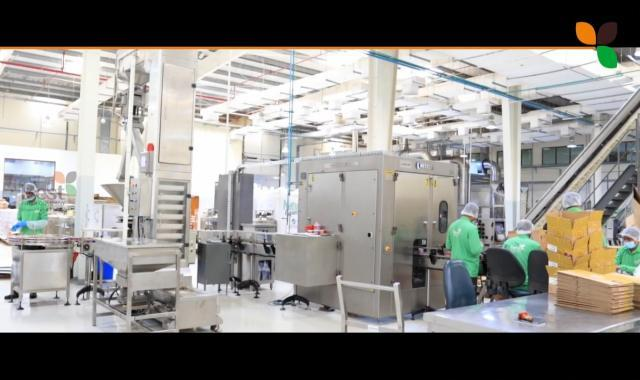Glove: (12, 223, 18, 231), (20, 221, 26, 227)
Hairnet: (512, 218, 534, 235), (564, 192, 583, 207), (459, 203, 478, 217), (24, 184, 37, 192), (623, 228, 634, 237)
Mask: (624, 241, 635, 248), (25, 195, 35, 201)
No_Apron: (450, 224, 481, 278), (505, 241, 542, 285), (20, 202, 47, 233), (620, 250, 638, 274)
